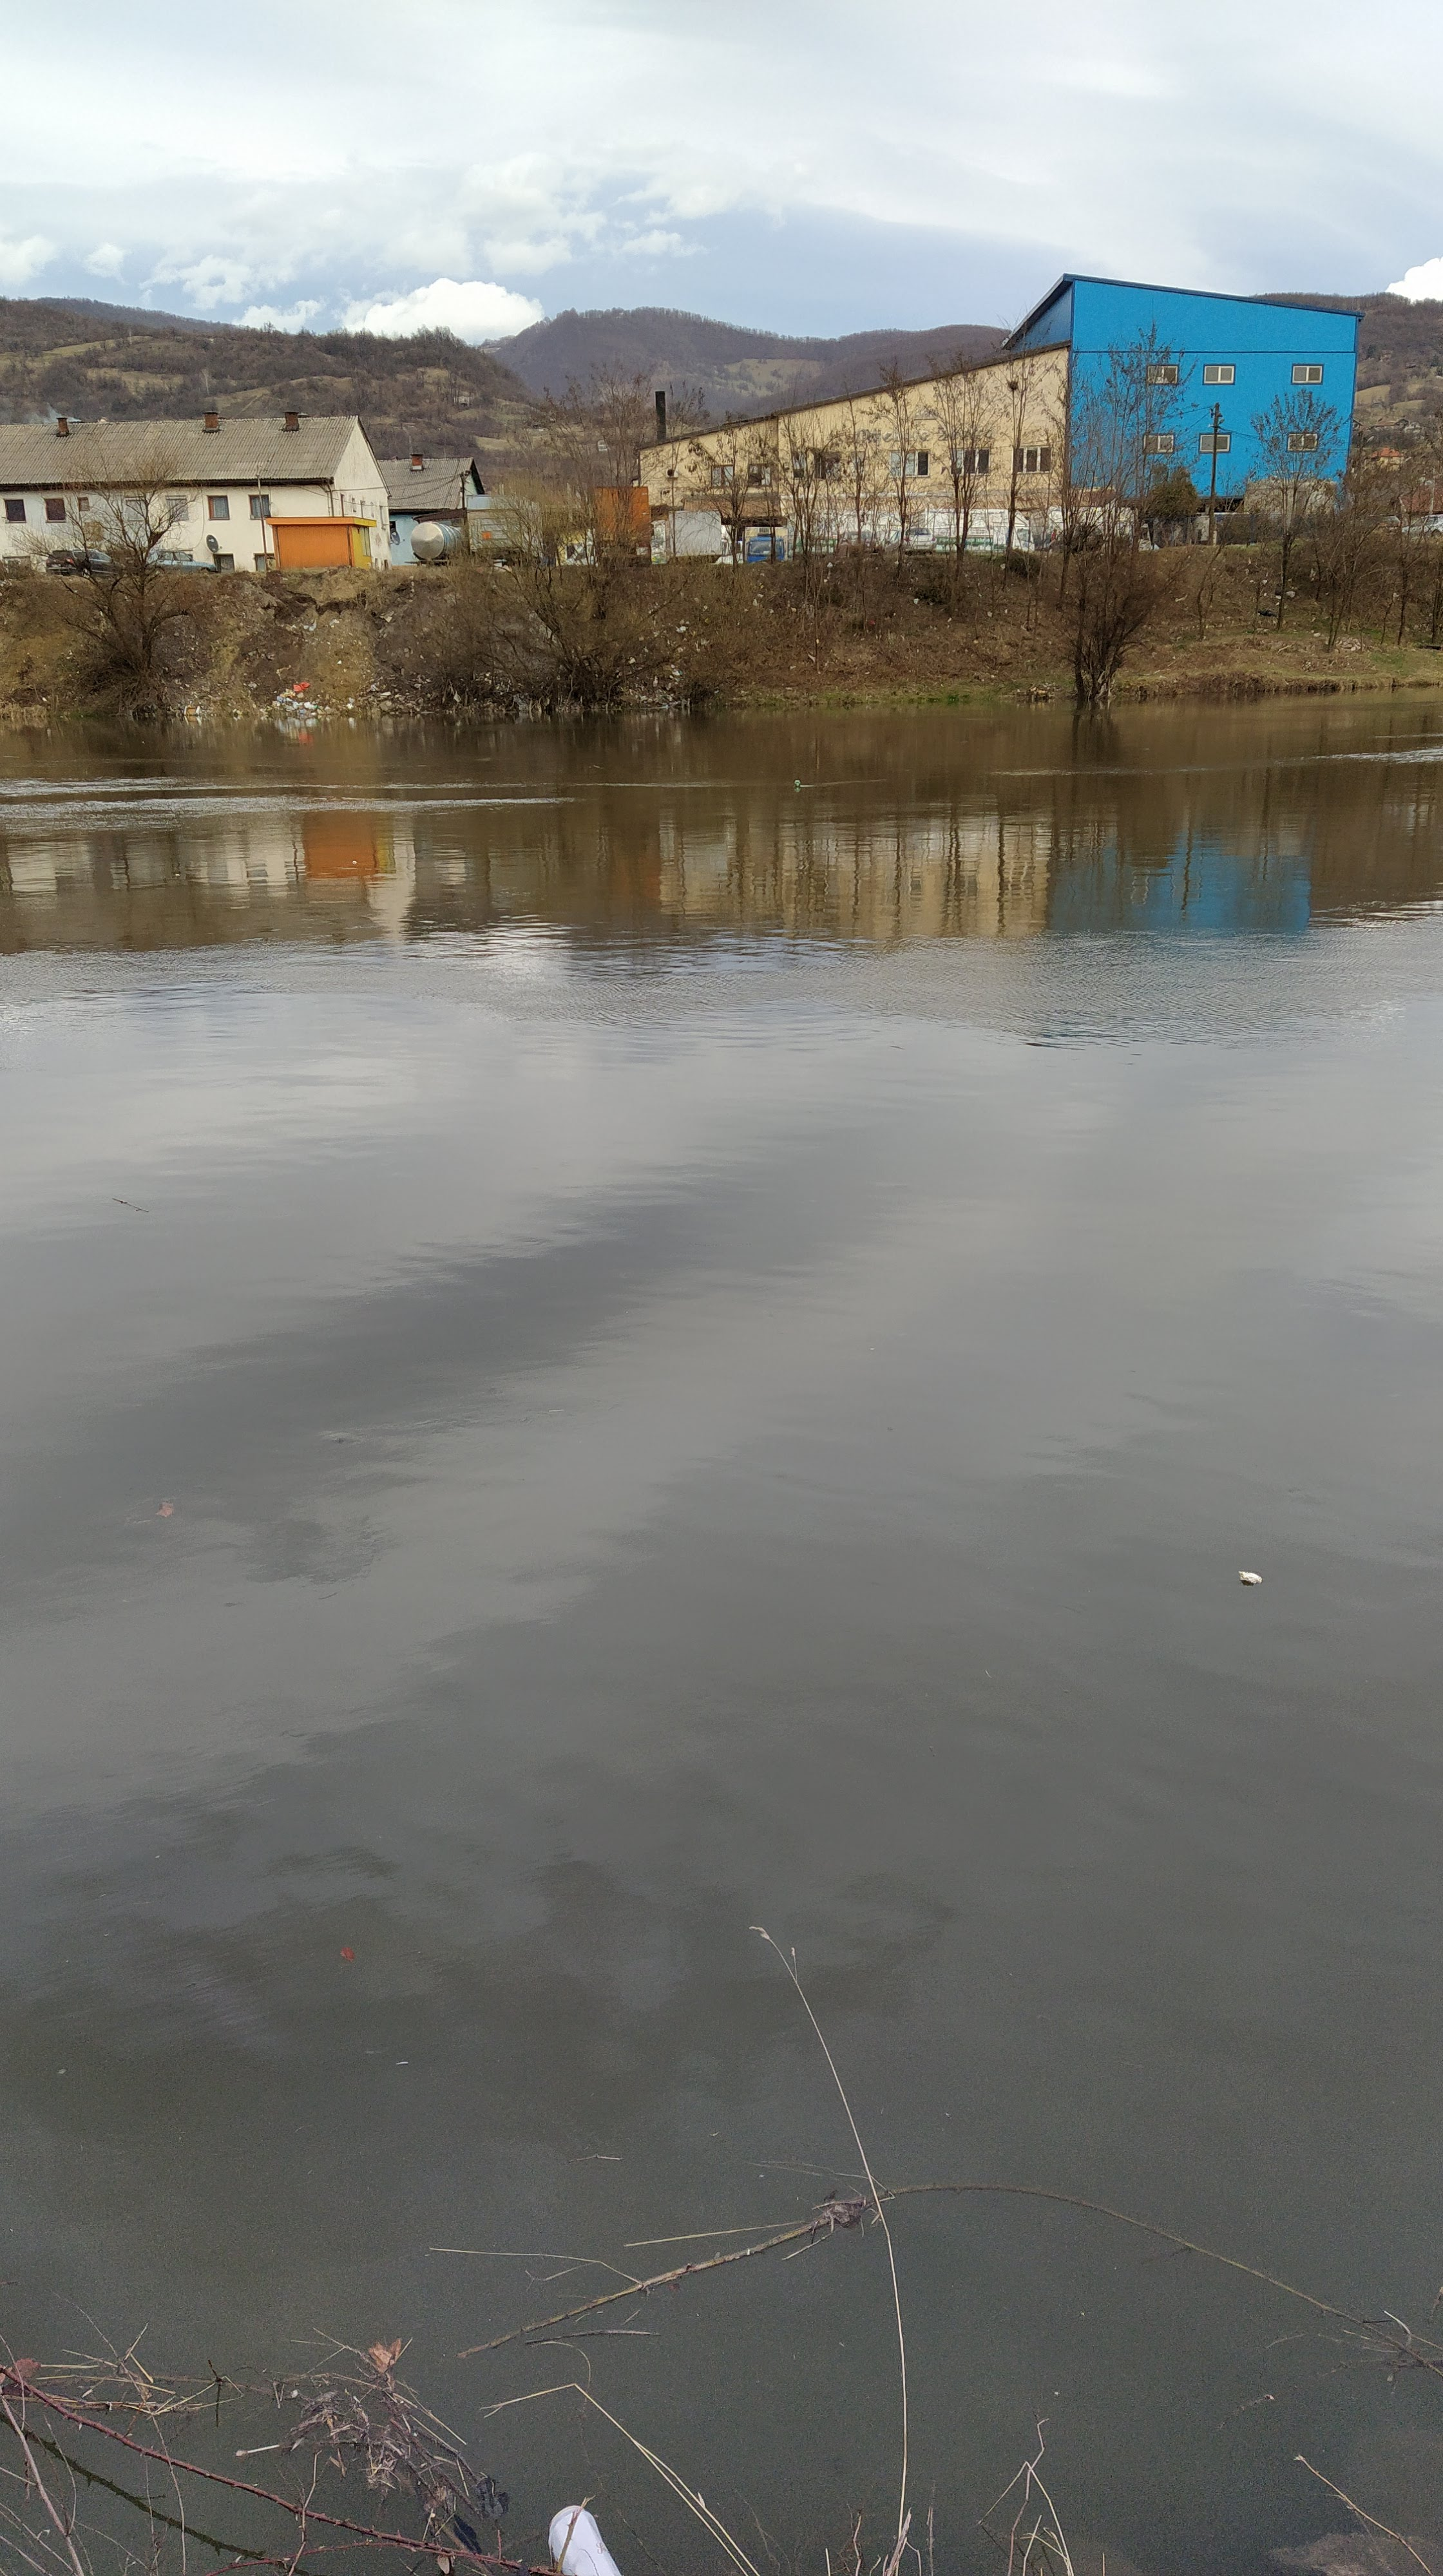Plastic Bottle: (795, 778, 800, 787)
